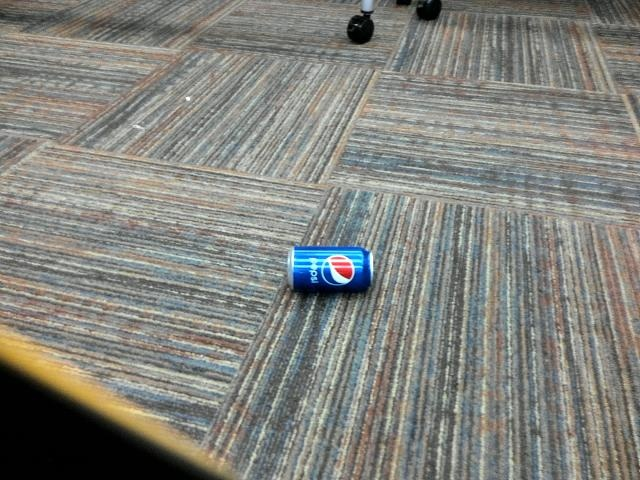can: (288, 246, 376, 295)
